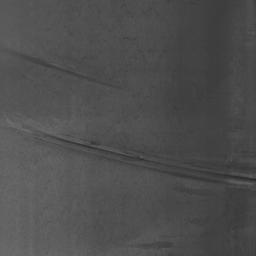Crease: (5, 120, 256, 185), (0, 47, 121, 89)
